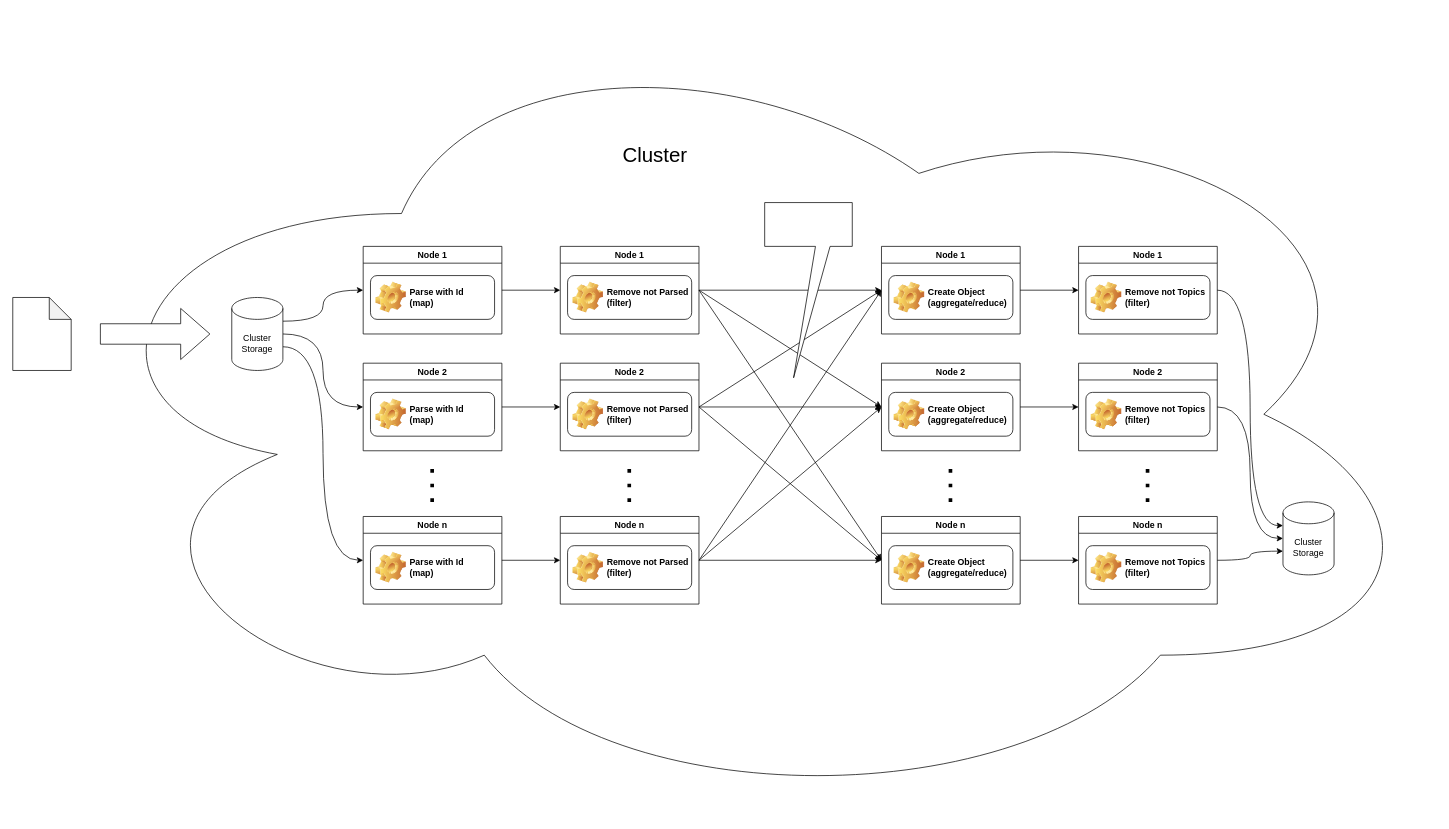
Some shapes in this 1449 by 829 pixel diagram are drawn without their labels. Here are the shapes that lost their labels. From the top down, the centre of each, then its label:
pixel 808 290: Redistribute dataset by Id
pixel 41 333: Raw Data
